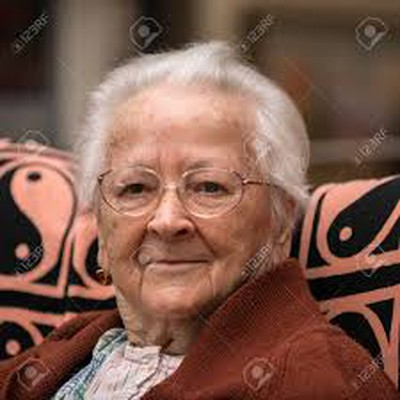eywear: (61, 110, 280, 235)
